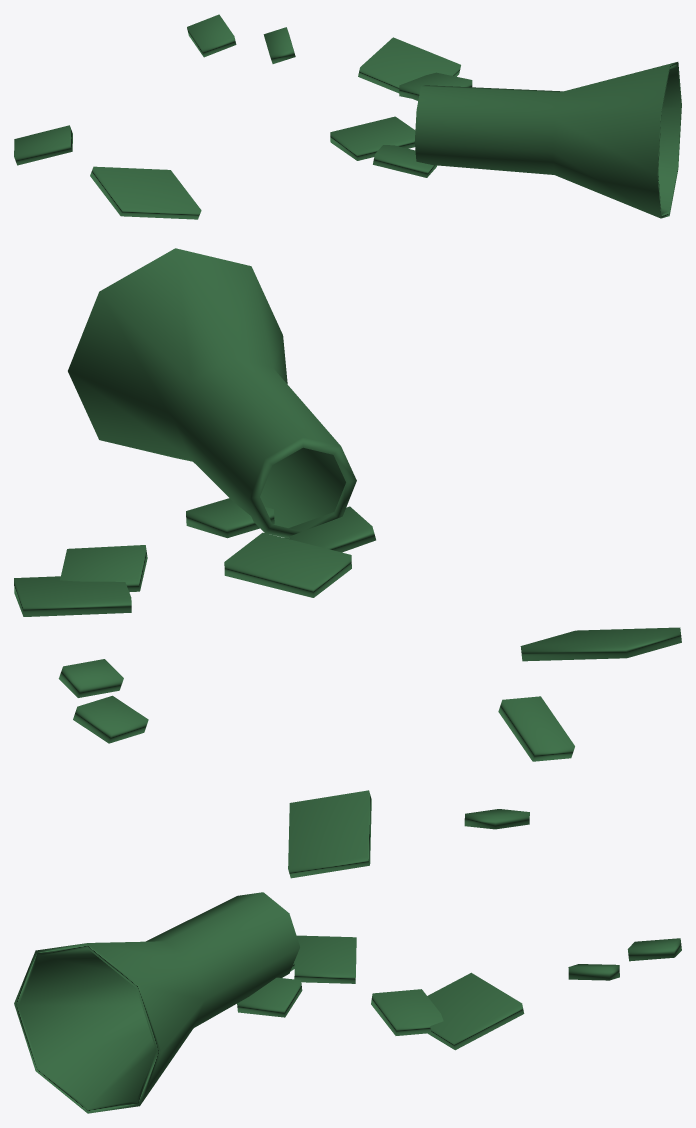
File: smiec_szklo.glb
3 renders of one model, top to bottom at view 1: azimuth 30°, elevation 25°; view 2: azimuth 150°, elevation 25°; view 3: azimuth 270°, elevation 25°, orthographic. The views are drawn at different scales.
Parts seen in each view (by area): view 1: Szklo; view 2: Szklo; view 3: Szklo.
Part boxes in pixels (x1,y1,x2,y2): Szklo: (14,14,681,219); Szklo: (14,248,681,761); Szklo: (14,790,681,1113).
Bounding box in the file's own units: 0.2139 × 0.06 × 0.2128.
